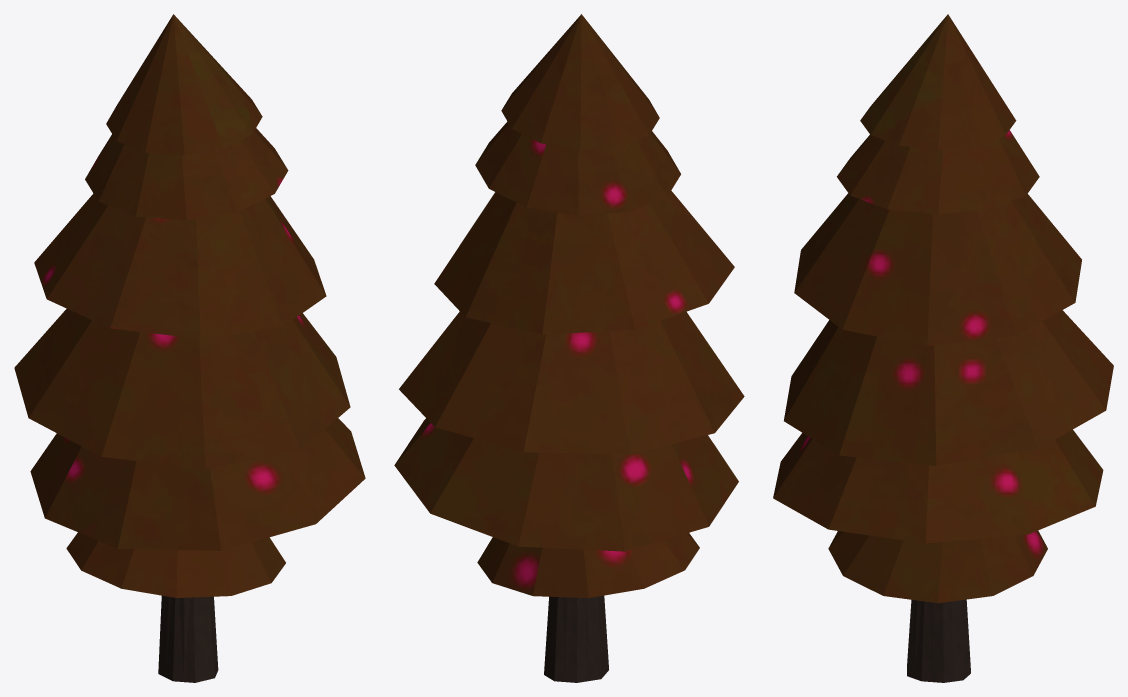
Rendered from tree-brown-red-flowers_2.fbx.
The picture shows the model from 3 angles, left to right: view 1: azimuth 30°, elevation 25°; view 2: azimuth 150°, elevation 25°; view 3: azimuth 270°, elevation 25°; orthographic projection.
Parts seen in each view (by area): view 1: Cylinder.031; view 2: Cylinder.031; view 3: Cylinder.031.
Boxes of the visible parts, x1,y1,x2,y2 form: Cylinder.031: (14, 14, 365, 682); Cylinder.031: (394, 14, 744, 682); Cylinder.031: (773, 14, 1113, 682).
Bounding box in the file's own units: 115 × 237 × 112.
